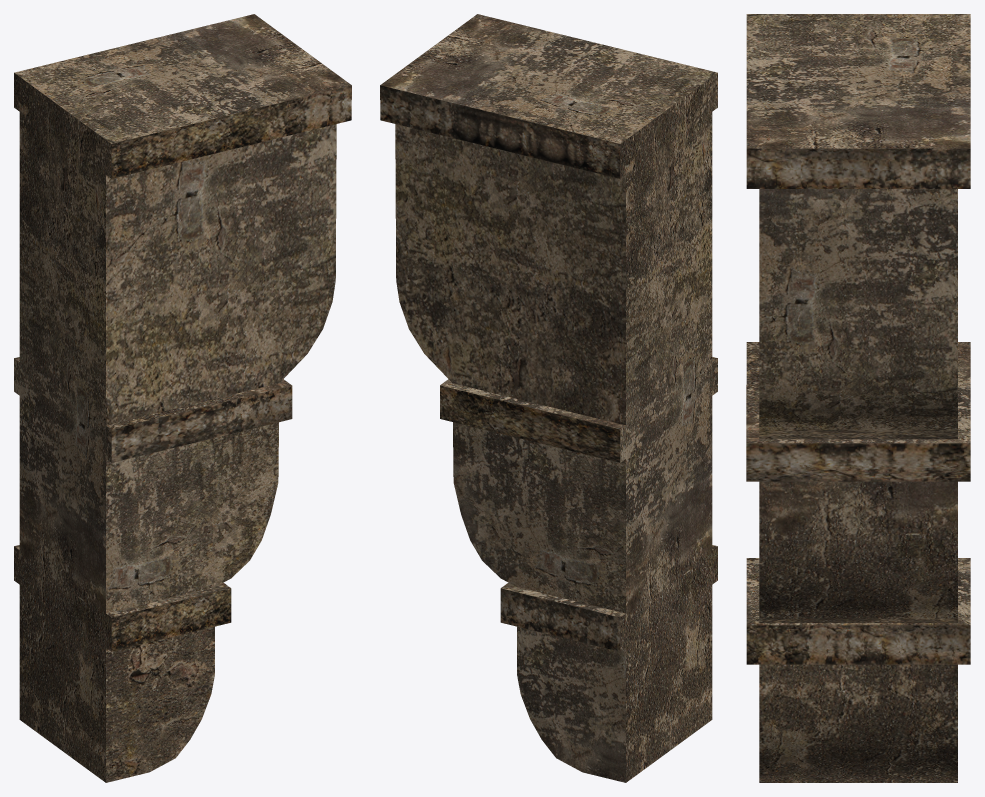
Rendered from materials_5_decoration_14.fbx.
3 views of the same model, side by side, from view 1: azimuth 30°, elevation 25°; view 2: azimuth 150°, elevation 25°; view 3: azimuth 270°, elevation 25° (orthographic). The views are drawn at different scales.
Parts seen in each view (by area): view 1: materials_5_decoration_14; view 2: materials_5_decoration_14; view 3: materials_5_decoration_14.
Part boxes in pixels (x1=…): materials_5_decoration_14: x1=14, y1=14, x2=351, y2=782; materials_5_decoration_14: x1=380, y1=14, x2=717, y2=782; materials_5_decoration_14: x1=746, y1=14, x2=970, y2=782.
Bounding box in the file's own units: 36.53 × 93.37 × 25.69.
